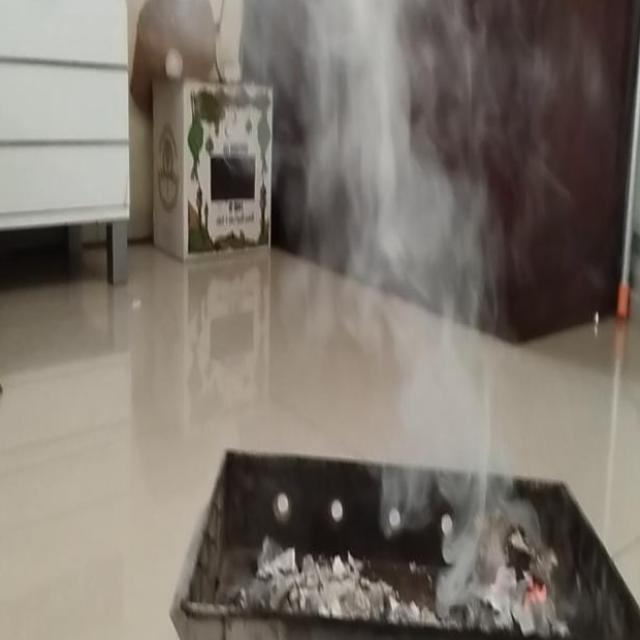fire: (373, 175, 506, 546), (307, 0, 437, 333)
